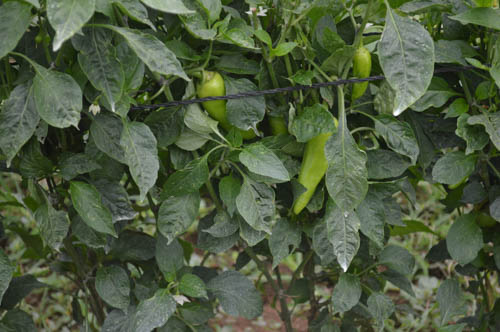ChiliPepper: (292, 118, 335, 218), (198, 75, 253, 142), (350, 50, 373, 104)
